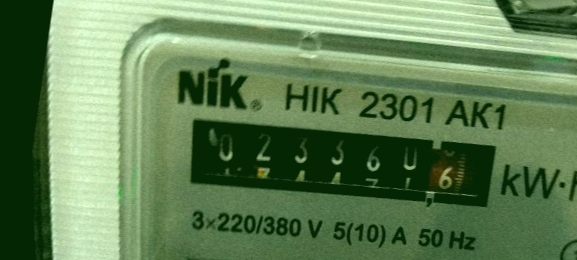0: (211, 128, 238, 165), (395, 140, 421, 174)
2: (251, 129, 275, 164)
3: (325, 132, 349, 168), (287, 133, 310, 166)
6: (359, 139, 385, 175), (432, 159, 458, 195)
screen: (166, 91, 514, 234)
